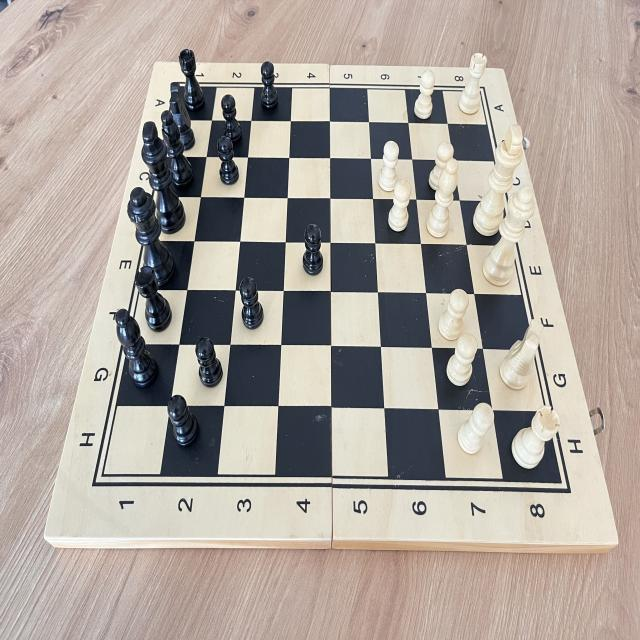black-bishop: (108, 305, 164, 396), (153, 104, 197, 190)
black-king: (135, 114, 196, 240)
black-knight: (161, 77, 201, 155)
black-pawn: (162, 392, 202, 450), (189, 332, 228, 391), (234, 272, 269, 334), (298, 218, 330, 282), (212, 134, 243, 190), (217, 92, 247, 148), (255, 58, 284, 113)
black-queen: (122, 185, 182, 290)
black-rook: (129, 261, 181, 335), (173, 46, 213, 120)
white-king: (470, 119, 528, 245)
white-knight: (496, 311, 546, 396)
white-pawn: (452, 398, 498, 462), (443, 329, 480, 392), (436, 283, 471, 347), (384, 172, 418, 237), (372, 136, 406, 197), (425, 137, 456, 196), (411, 66, 438, 124)
white-queen: (478, 181, 540, 293)
white-rook: (507, 398, 565, 477), (457, 47, 489, 120)
